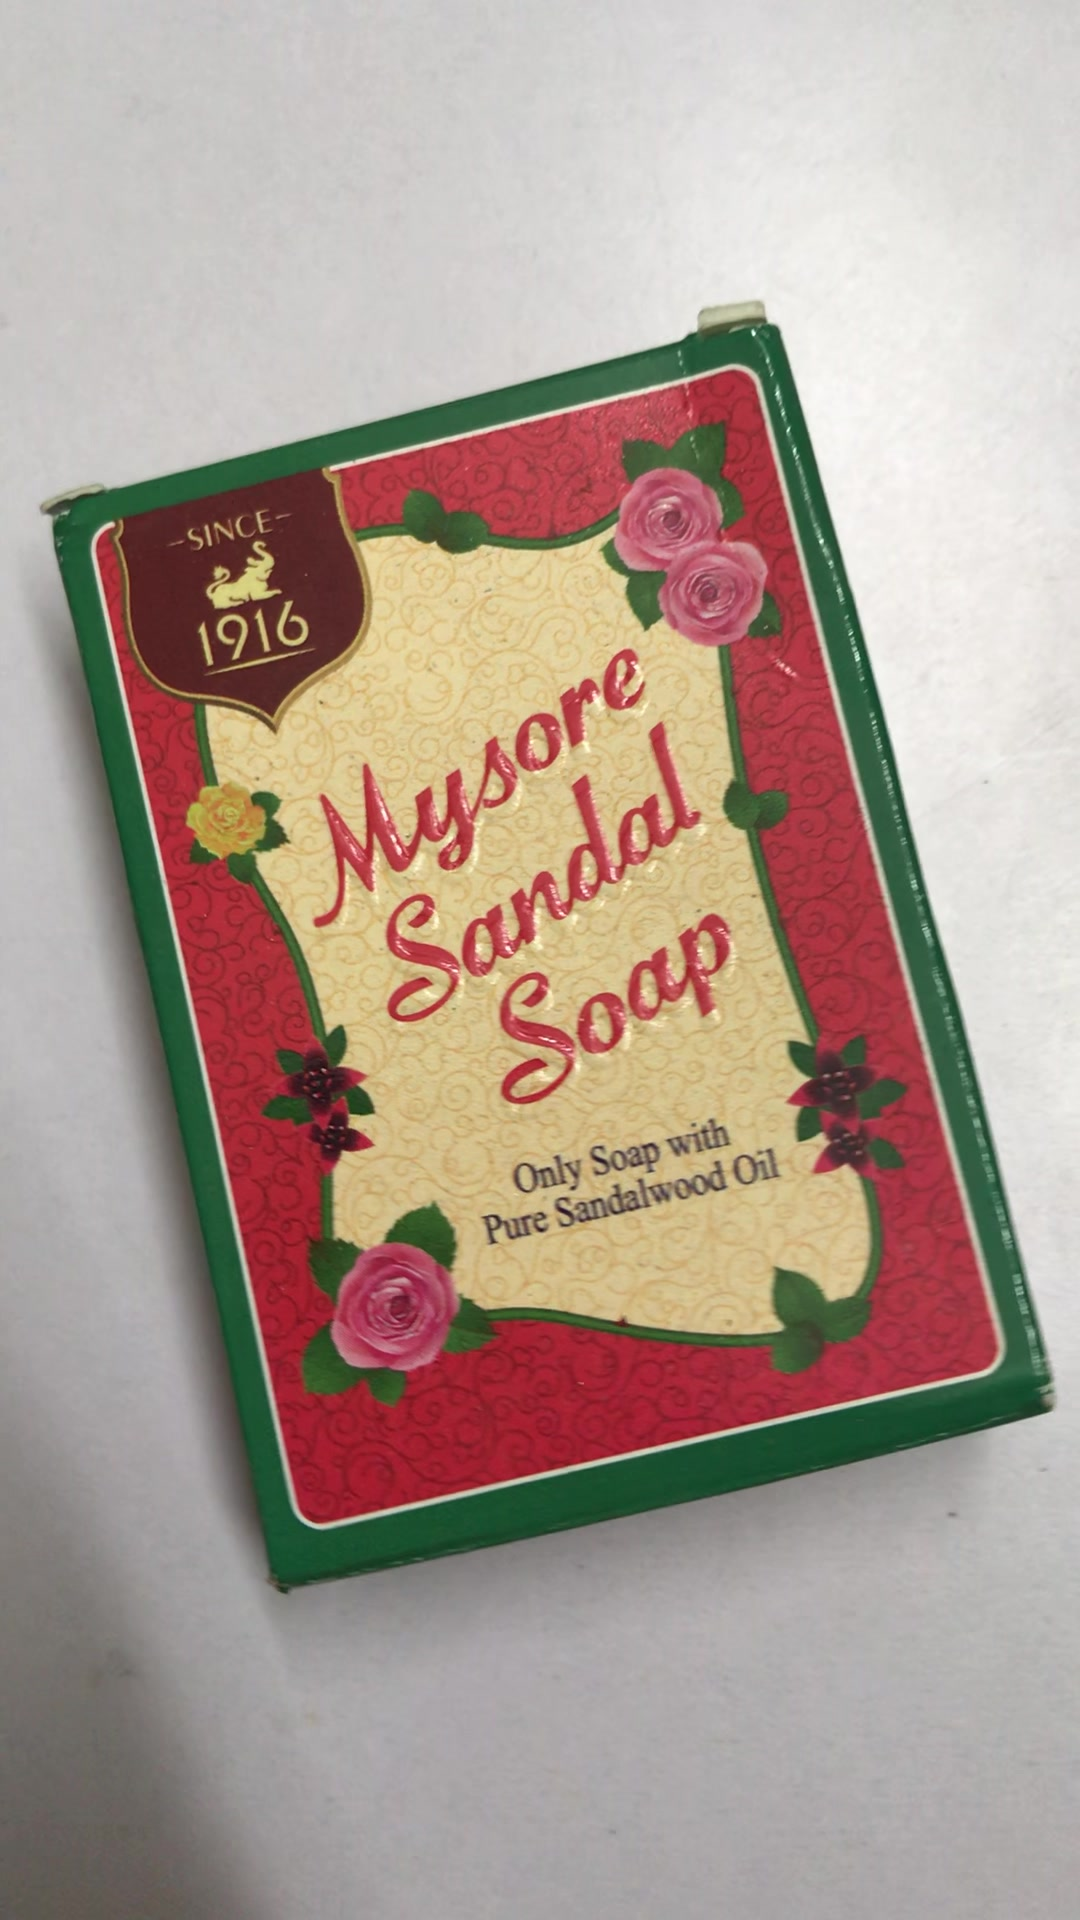mysore sandal soap: (47, 316, 1059, 1590)
